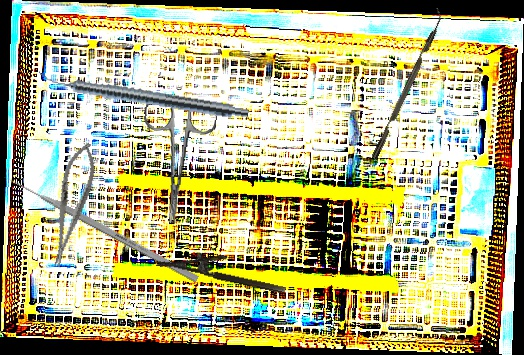Chopper: (363, 7, 449, 160)
Handpiece: (36, 69, 251, 122)
Iris Scissors: (133, 95, 219, 227)
Needle Holder: (41, 139, 102, 270), (155, 240, 290, 296)
Pusher: (2, 173, 200, 283)
